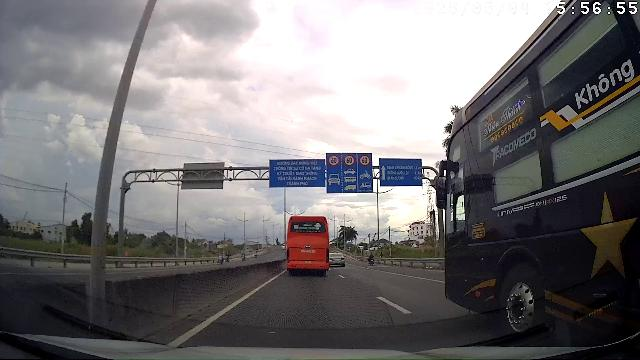127-toc-do-toi-da-60: (327, 154, 340, 167), (343, 154, 356, 166), (359, 154, 371, 167)
